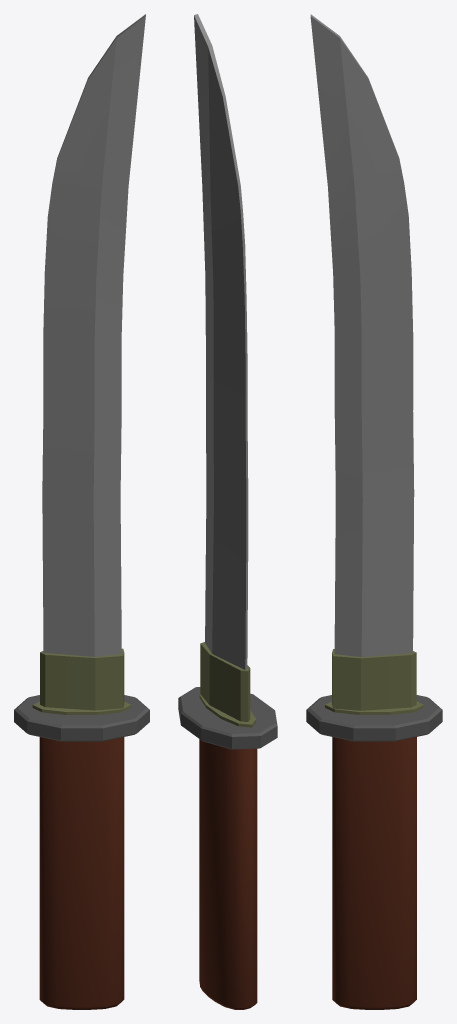
The picture shows the model from 3 angles, left to right: view 1: azimuth 90°, elevation 25°; view 2: azimuth 210°, elevation 25°; view 3: azimuth 270°, elevation 25°; orthographic projection. The views are drawn at different scales.
Visible parts, largest first — view 1: Cube.003, Cube.004, Cylinder.011, Cylinder.013, Cylinder.012; view 2: Cube.003, Cube.004, Cylinder.013, Cylinder.011, Cylinder.012; view 3: Cube.003, Cube.004, Cylinder.011, Cylinder.013, Cylinder.012.
Boxes of the visible parts, x1=… form: Cube.003: x1=42, y1=14, x2=145, y2=656; Cube.004: x1=39, y1=737, x2=124, y2=1009; Cylinder.011: x1=40, y1=648, x2=124, y2=710; Cylinder.013: x1=14, y1=695, x2=149, y2=741; Cylinder.012: x1=32, y1=701, x2=131, y2=714; Cube.003: x1=194, y1=14, x2=248, y2=669; Cube.004: x1=199, y1=739, x2=257, y2=1009; Cylinder.013: x1=178, y1=687, x2=277, y2=749; Cylinder.011: x1=200, y1=642, x2=250, y2=721; Cylinder.012: x1=199, y1=694, x2=256, y2=727; Cube.003: x1=310, y1=14, x2=414, y2=656; Cube.004: x1=332, y1=737, x2=416, y2=1009; Cylinder.011: x1=332, y1=649, x2=416, y2=710; Cylinder.013: x1=306, y1=695, x2=442, y2=741; Cylinder.012: x1=325, y1=701, x2=423, y2=714.
Size of the model in its own units: 16.2 by 201 by 25.1.
